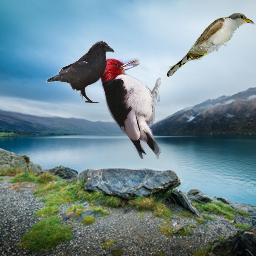Crow: (46, 40, 115, 103)
Cuckoo: (165, 12, 255, 77)
Woodpecker: (99, 58, 161, 159)
